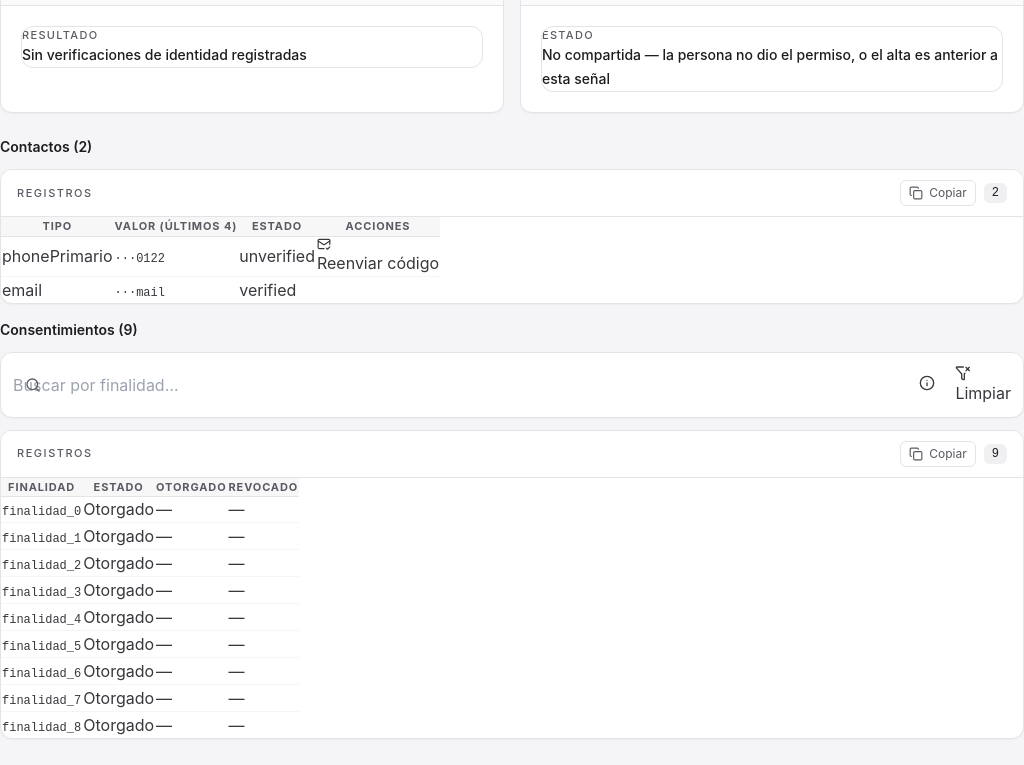
Test: investigación · cuadros de la ficha › con muchas filas ofrece buscador y recorta las que no coinciden
This screenshot has width=1024, height=765.
(page scrolled)
expect the heading "Consentimientos (9)" is shown: met, box [0,320,138,338]
Type "finalidad_7" into the field labelled "Buscar por finalidad…" at (137, 384), box [13,372,261,396]
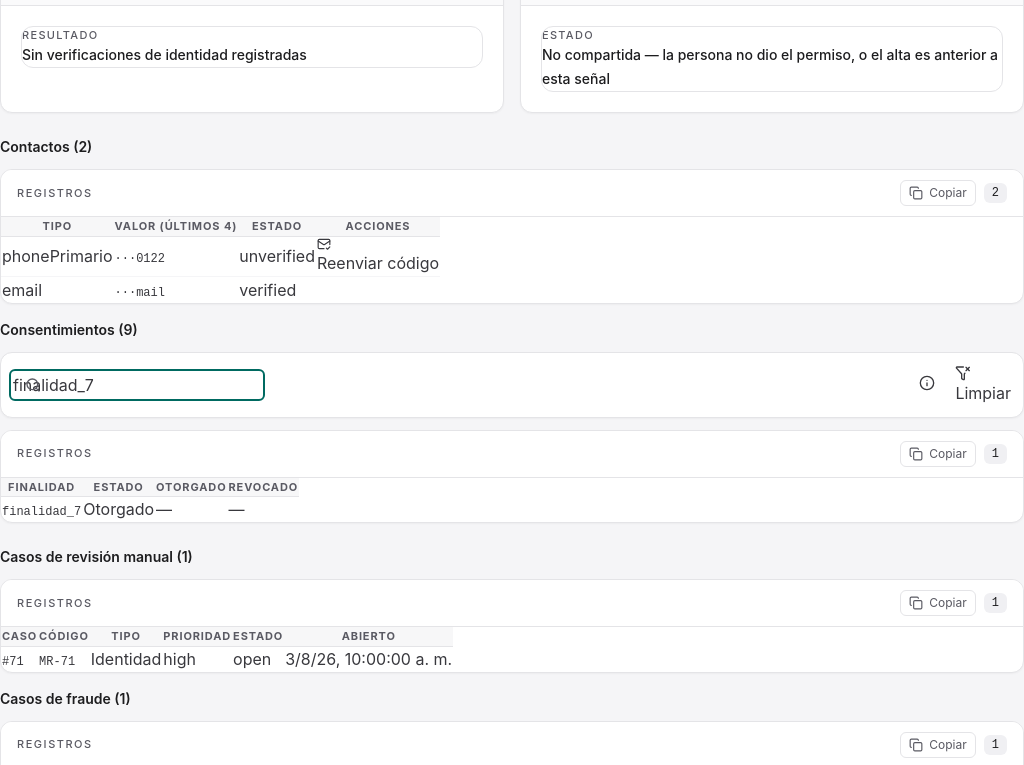
expect the text "finalidad_3" is gone: met
expect the text "finalidad_7" is shown: met, box [2,505,81,519]
